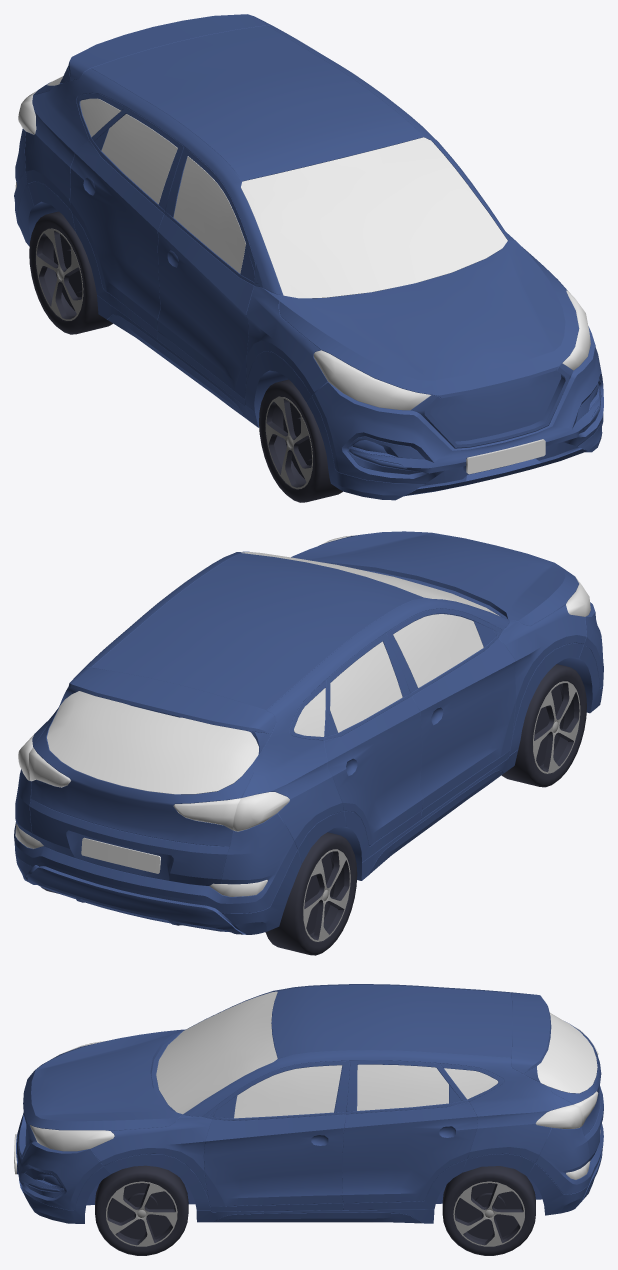
File: car.fbx
3 views of the same model, one above another, from view 1: azimuth 30°, elevation 25°; view 2: azimuth 150°, elevation 25°; view 3: azimuth 270°, elevation 25° (orthographic). The views are drawn at different scales.
Parts seen in each view (by area): view 1: Tucson; view 2: Tucson; view 3: Tucson.
Boxes of the visible parts, x1,y1,x2,y2 form: Tucson: (14, 14, 603, 502); Tucson: (14, 531, 603, 955); Tucson: (14, 984, 603, 1255).
Bounding box in the file's own units: 183 × 164 × 453.
